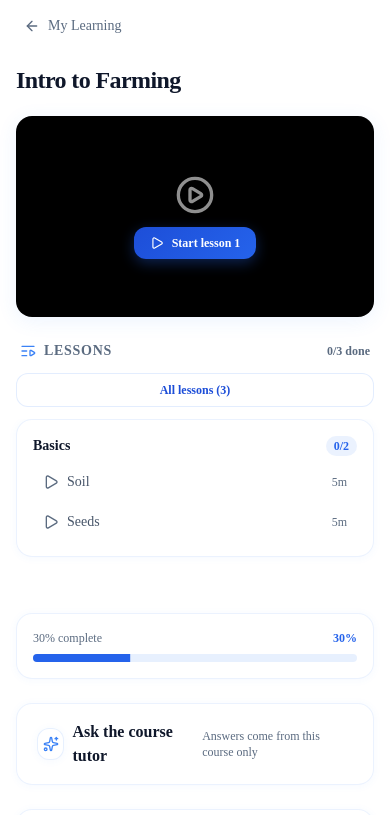
Test case: lesson player › the lesson list sits between the player and the panels, with an All lessons disclosure
This screenshot has width=390, height=815.
Click the button "All lessons (3)" at (195, 390), box [16,373,374,407]
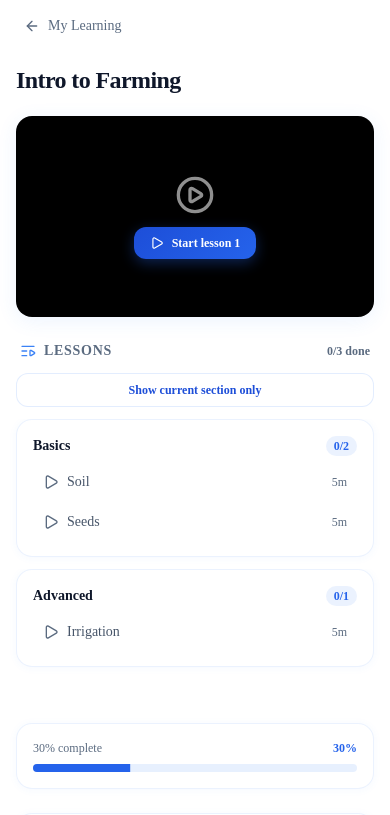
Result: the button named "All lessons (3)" is expanded at [16,373,374,407]
